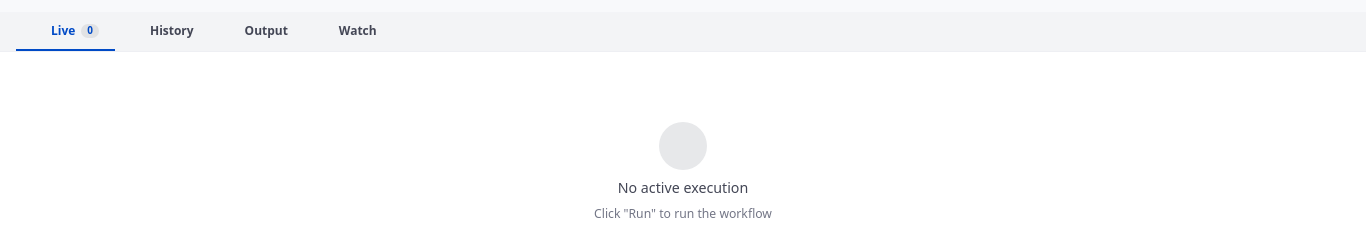
Scenario: ExecutionPanel › historyTab_empty_showsNoHistoryMessage
Step 1. Click the button "History" → {"x": 162, "y": 32}, box [115,13,210,51]
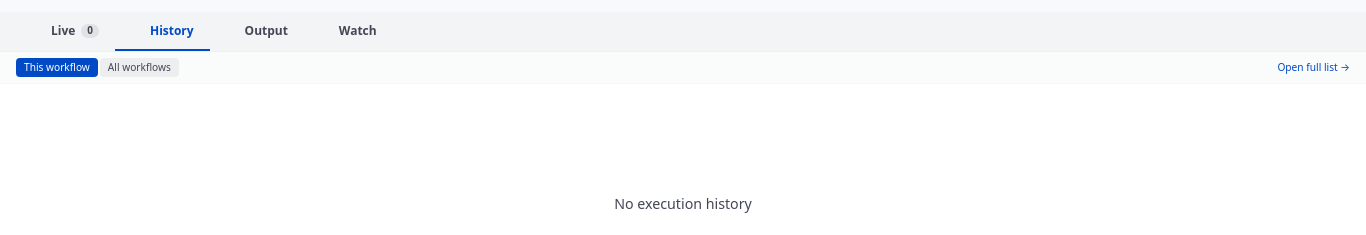
Result: the text "No execution history" is shown at [614,194,752,214]
